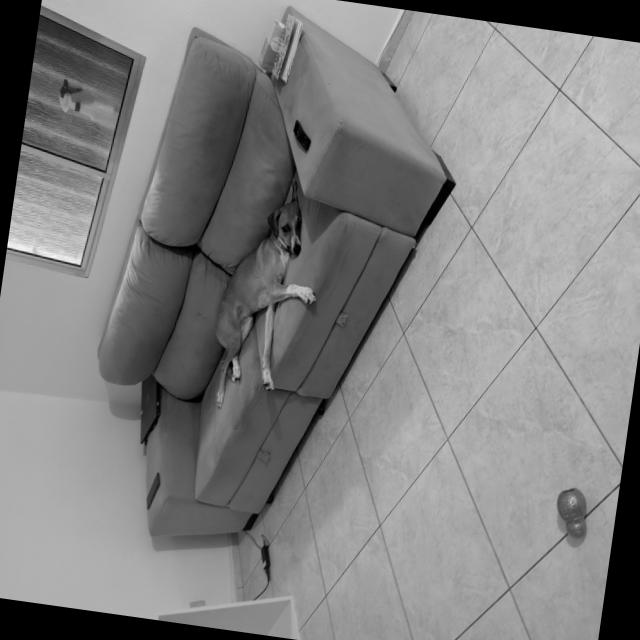laying down: (196, 168, 334, 424)
